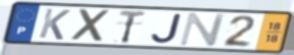2: (223, 14, 257, 48)
J: (150, 12, 185, 45)
K: (36, 7, 73, 42)
N: (177, 12, 228, 47)
T: (117, 9, 148, 45)
X: (70, 8, 114, 44)
